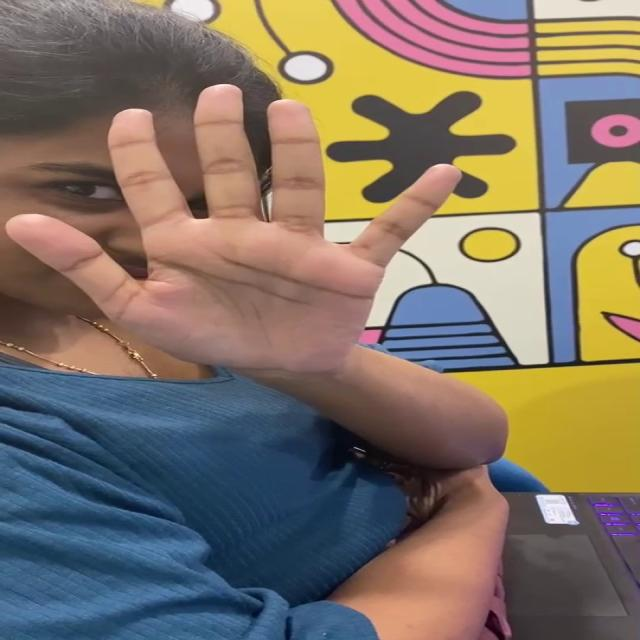no-gloves: (0, 70, 471, 400)
